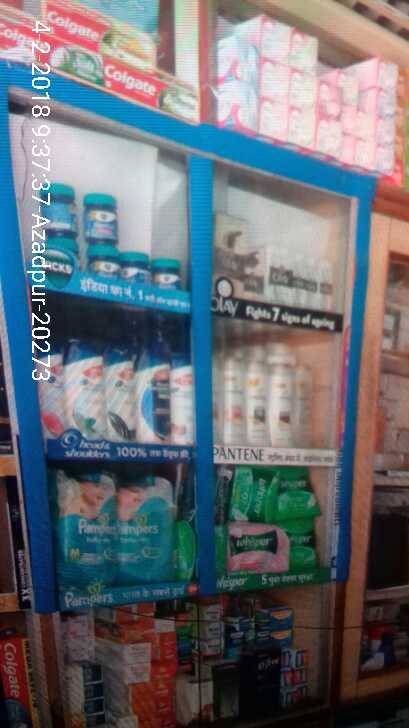vicks: (46, 181, 183, 288)
